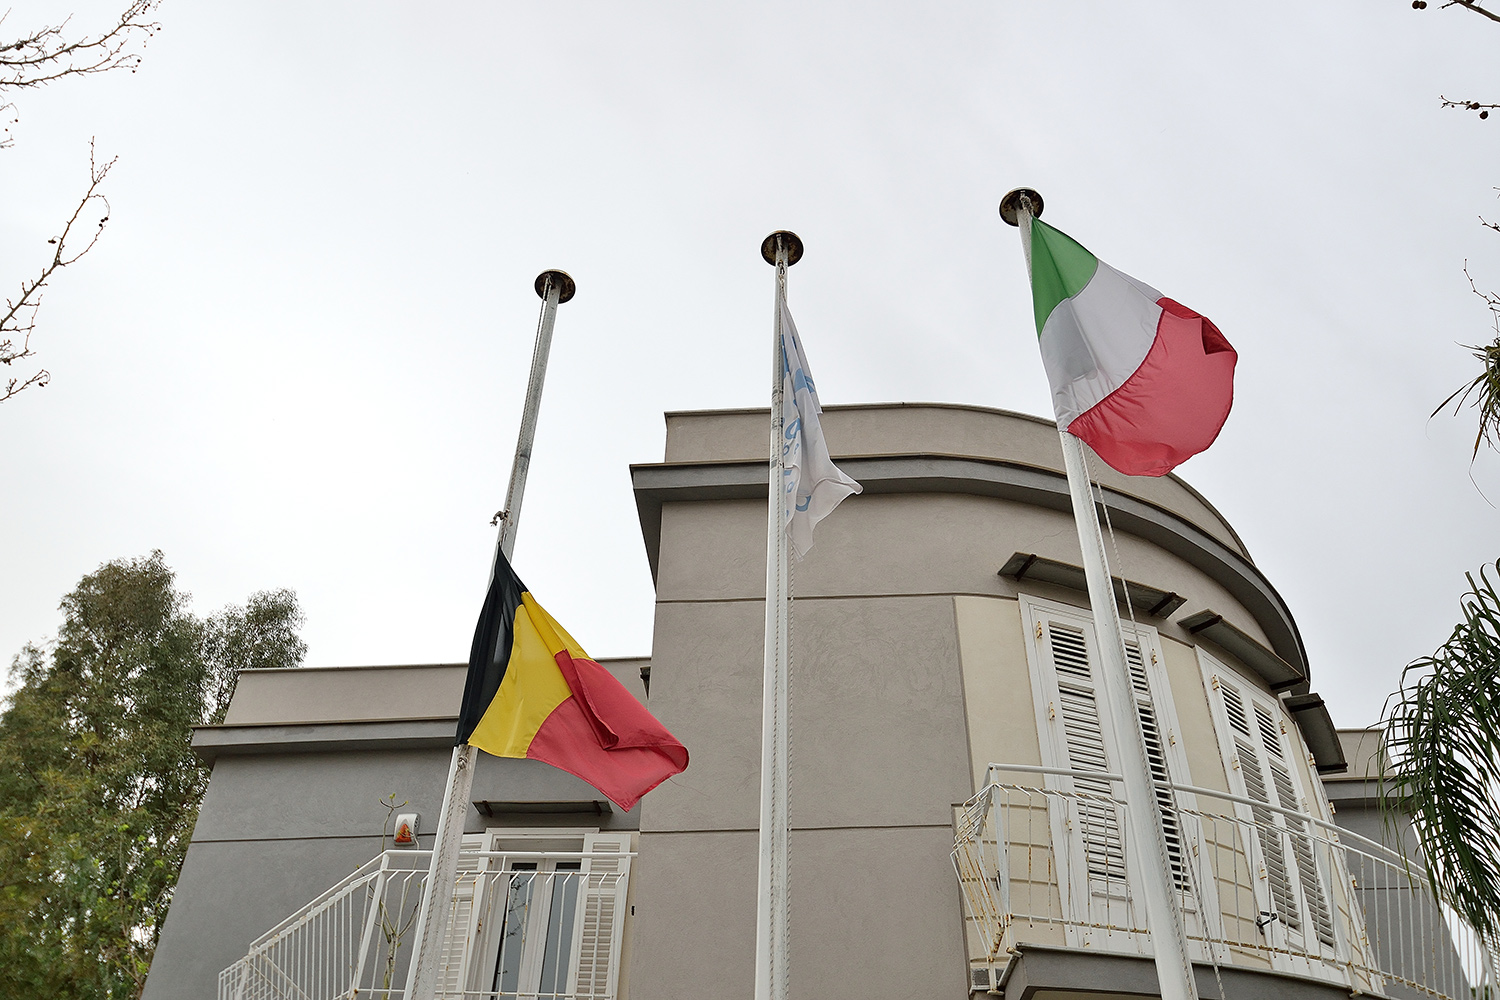Flag: (435, 519, 700, 820), (1017, 200, 1242, 491), (759, 271, 873, 573)
